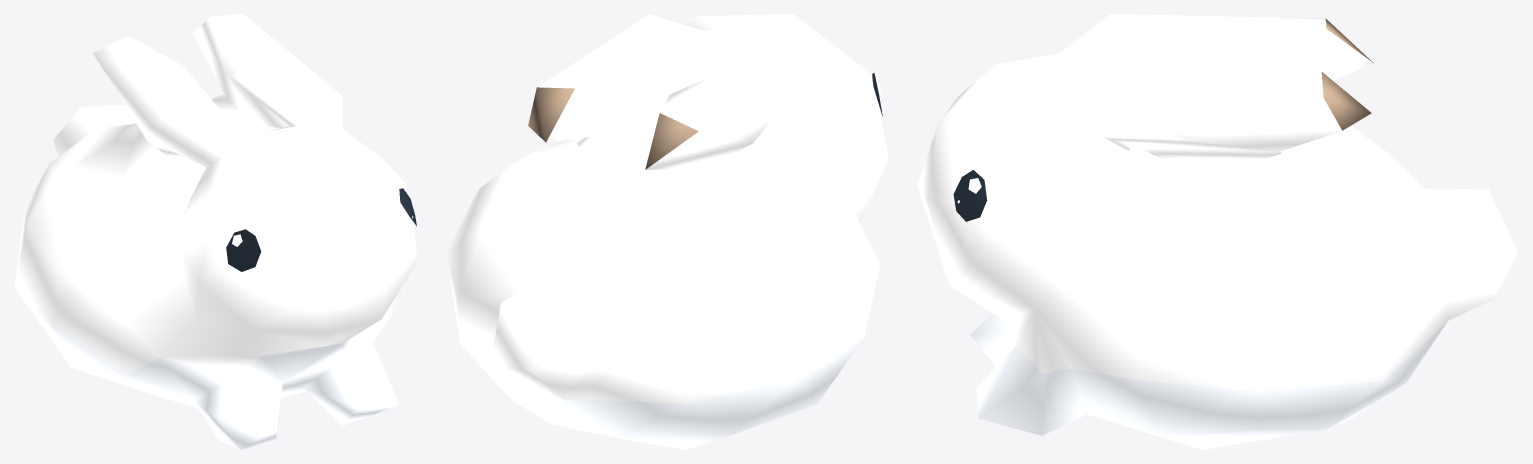
Rendered from snow-hare.glb.
The picture shows the model from 3 angles, left to right: view 1: azimuth 30°, elevation 25°; view 2: azimuth 150°, elevation 25°; view 3: azimuth 270°, elevation 25°; orthographic projection. The views are drawn at different scales.
Visible parts, largest first — view 1: snow-hare; view 2: snow-hare; view 3: snow-hare.
Boxes of the visible parts, x1,y1,x2,y2 form: snow-hare: (14, 14, 417, 449); snow-hare: (446, 14, 888, 449); snow-hare: (917, 14, 1518, 449).
Bounding box in the file's own units: 0.6 × 0.55 × 0.8.
